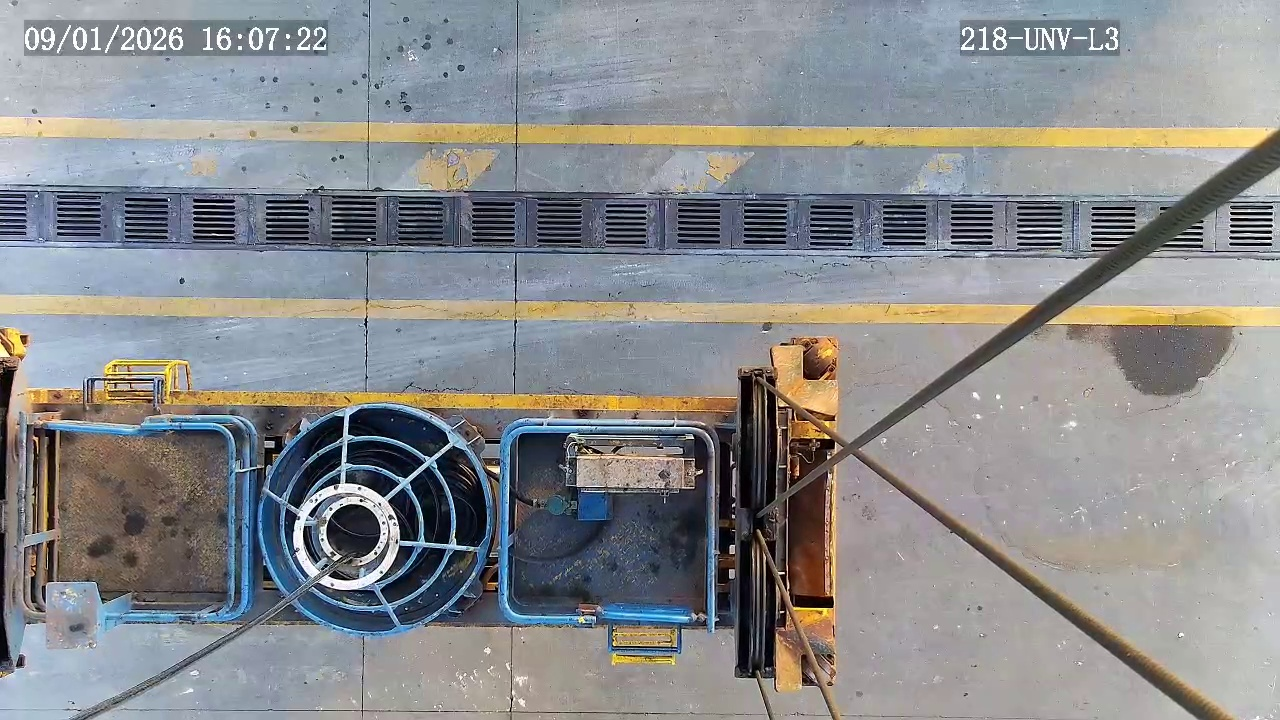right: (293, 484, 401, 590)
